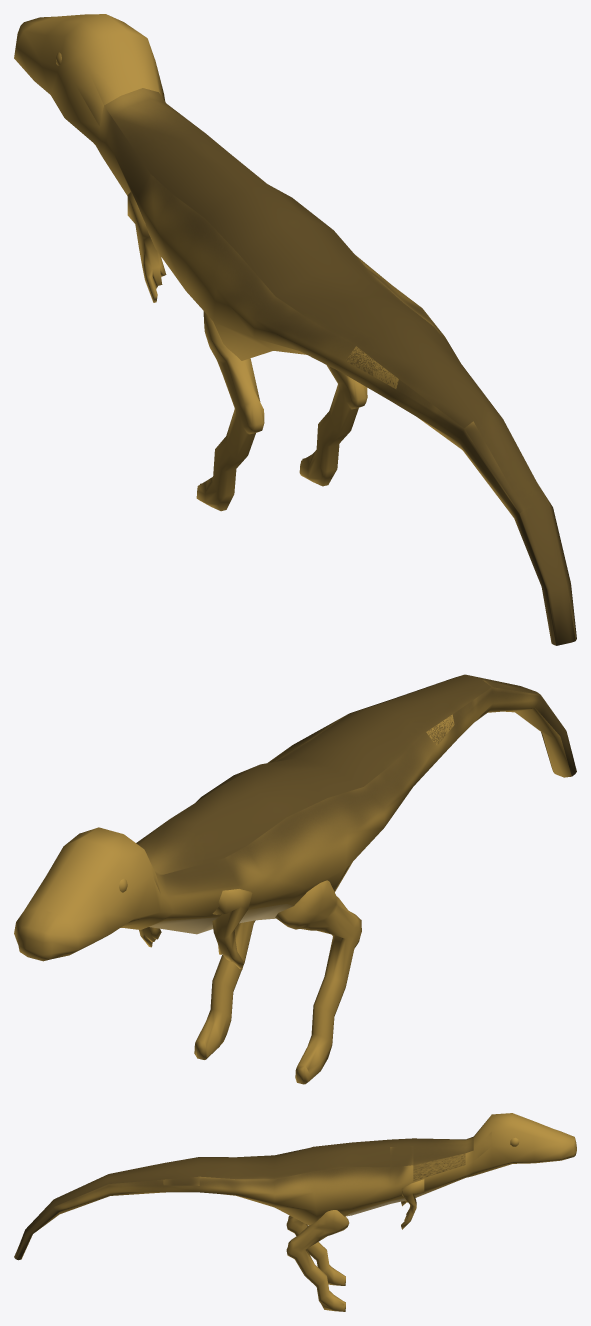
File: Herrerasaurus_Model.FBX
3 renders of one model, top to bottom at view 1: azimuth 30°, elevation 25°; view 2: azimuth 150°, elevation 25°; view 3: azimuth 270°, elevation 25°, orthographic. The views are drawn at different scales.
Parts seen in each view (by area): view 1: Herrerasaurus_Body; view 2: Herrerasaurus_Body; view 3: Herrerasaurus_Body.
Boxes of the visible parts, bbox=[...] form: Herrerasaurus_Body: bbox=[14, 14, 576, 645]; Herrerasaurus_Body: bbox=[14, 674, 576, 1084]; Herrerasaurus_Body: bbox=[14, 1113, 576, 1311].
Size of the model in its own units: 202 by 488 by 1362.
